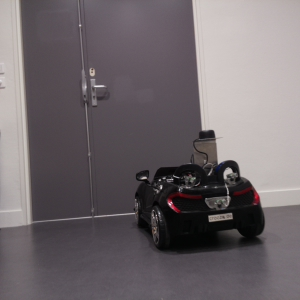big: (129, 157, 269, 250)
